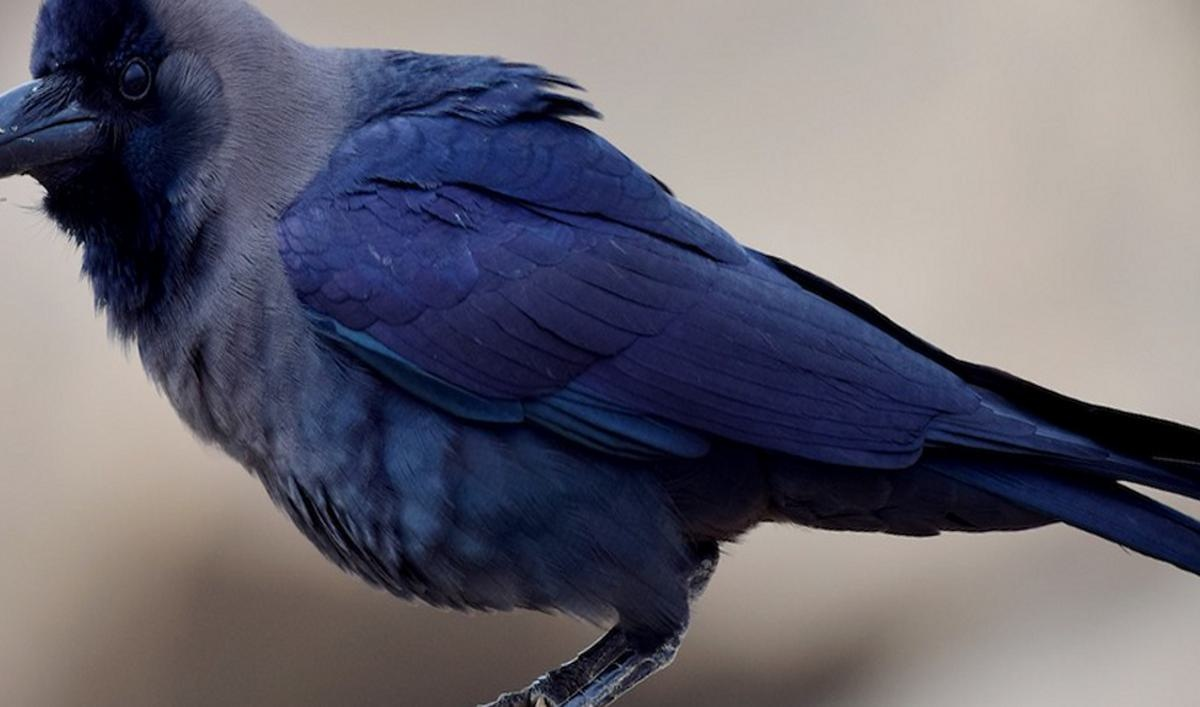crow: (2, 1, 1200, 707)
